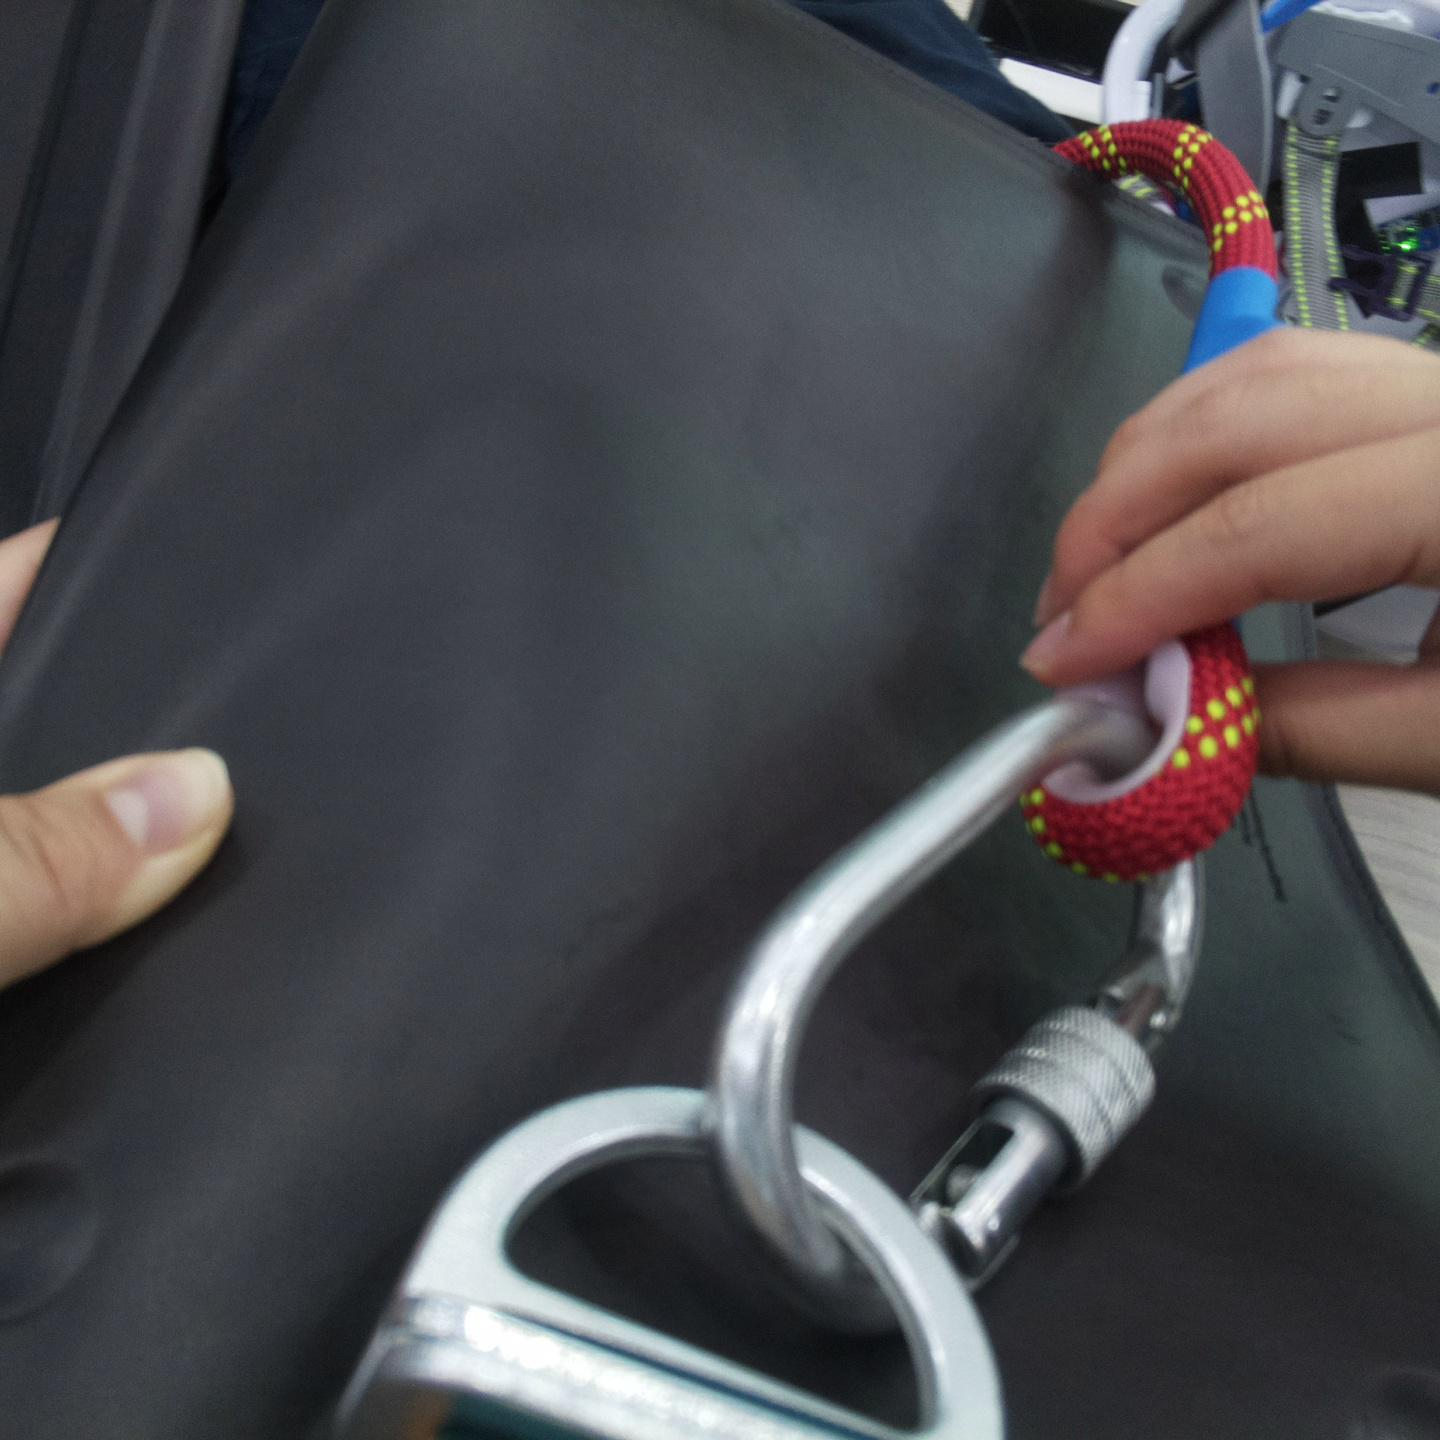SUCCESS: (349, 920, 1269, 1425)
